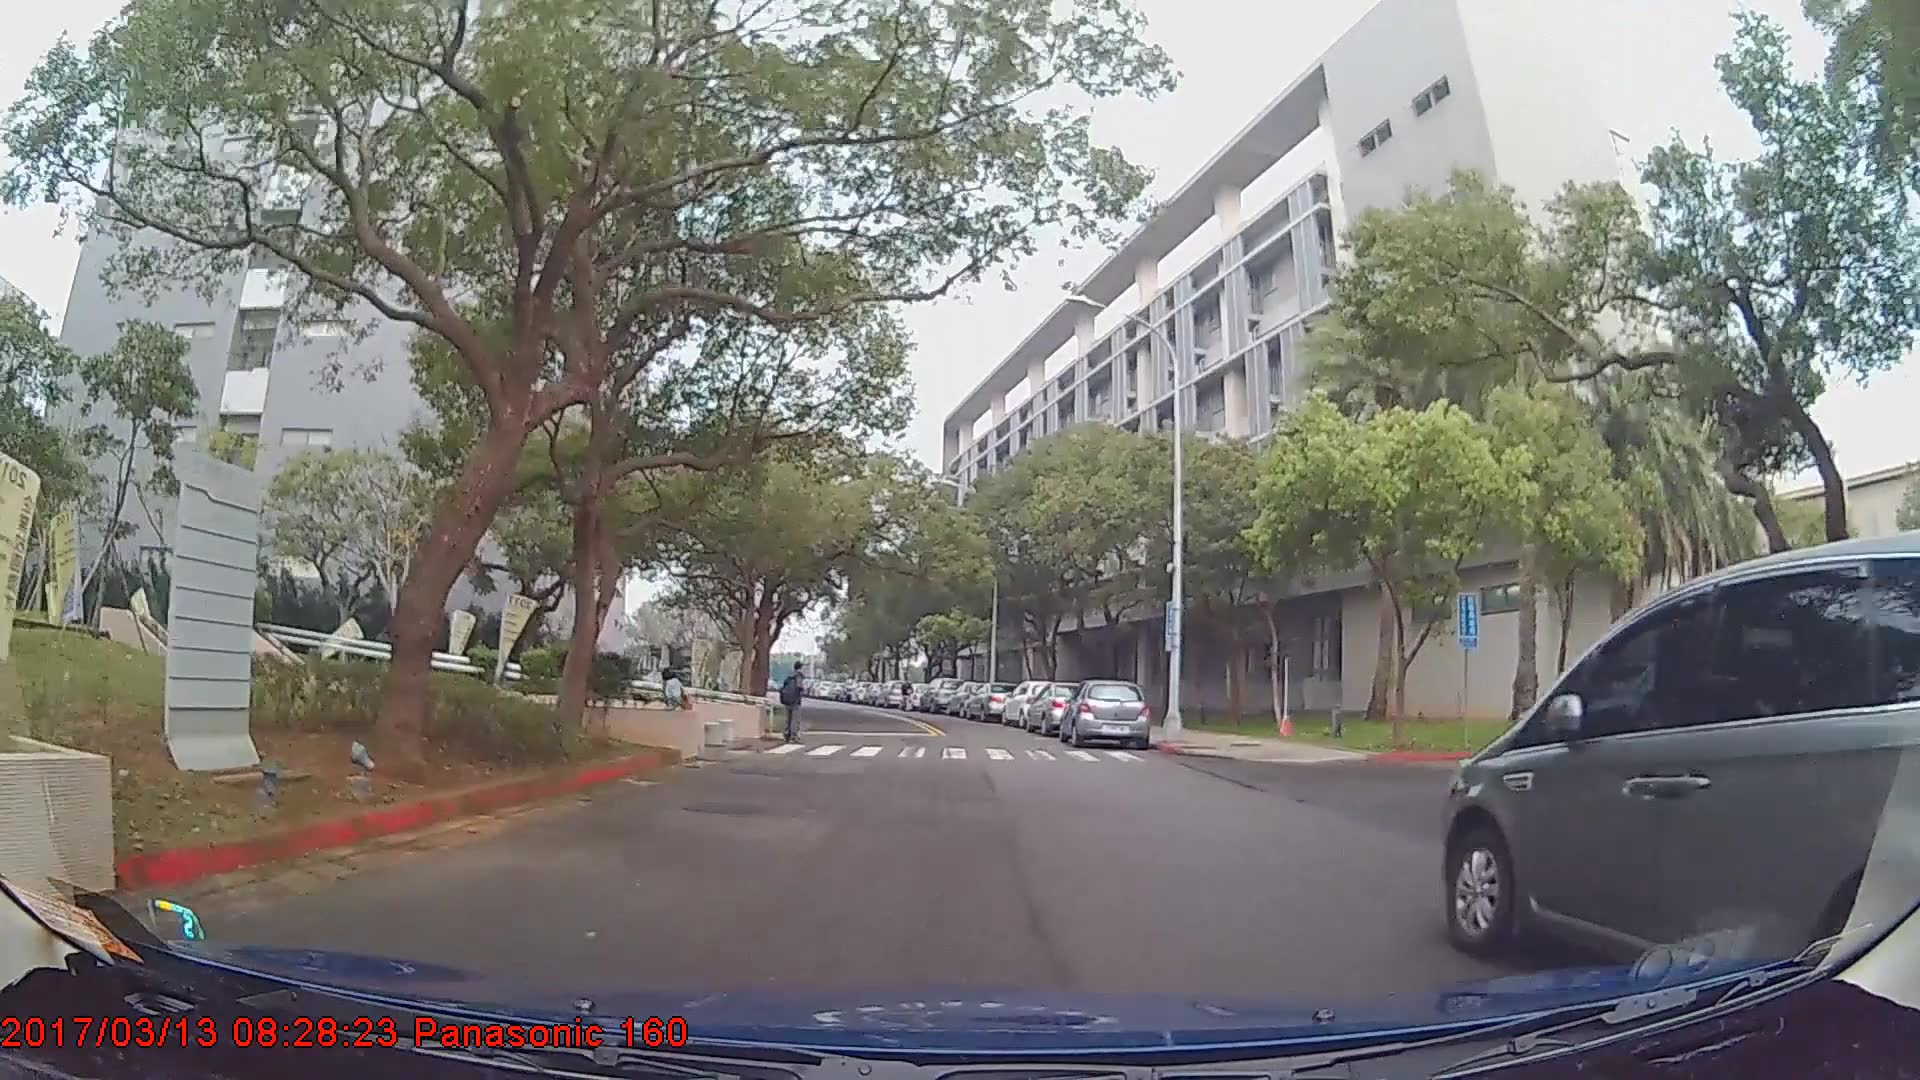pedestrian: (653, 669, 694, 755), (780, 661, 811, 750)
vehicle: (1441, 534, 1920, 984), (1061, 679, 1148, 751), (1022, 680, 1105, 735), (997, 678, 1066, 733), (963, 681, 1013, 720), (919, 677, 963, 714)
